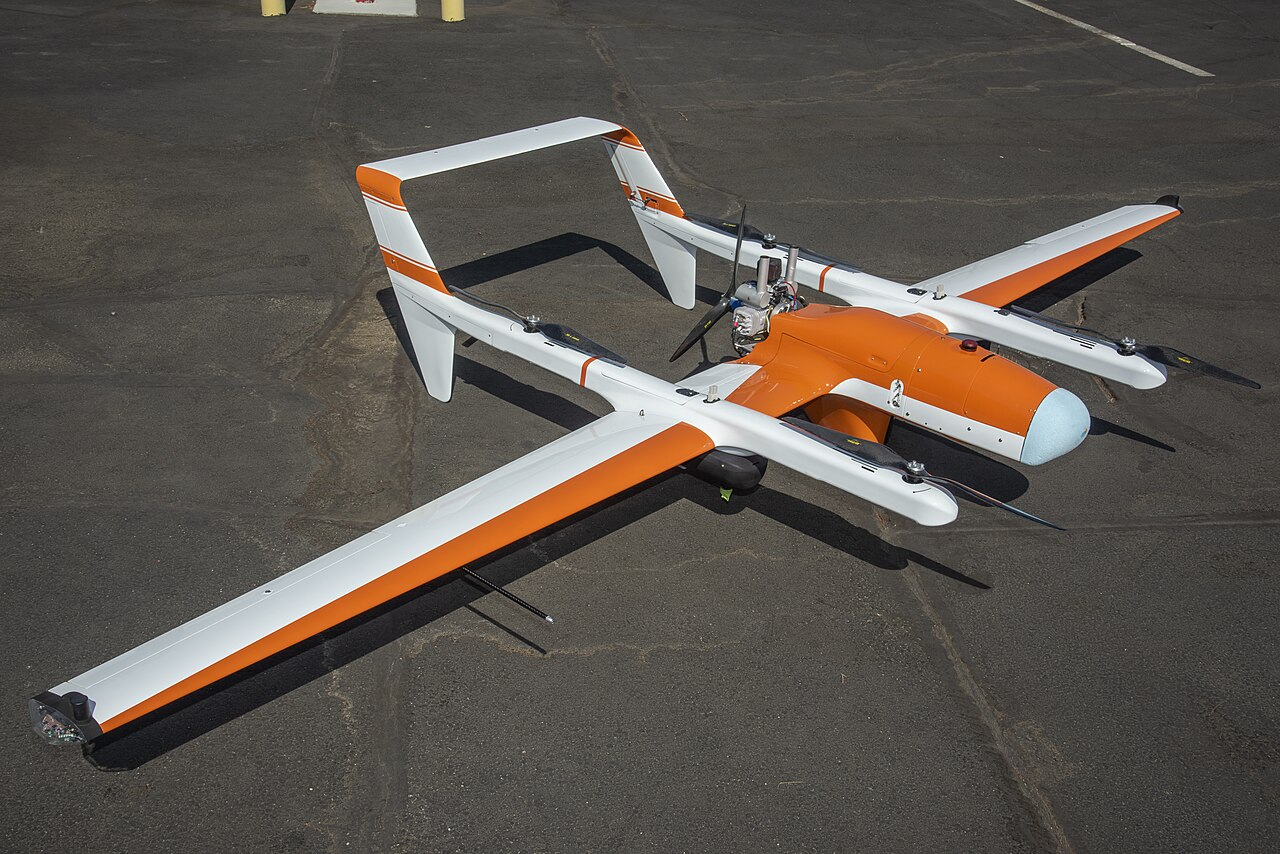drone: (26, 111, 1261, 743)
